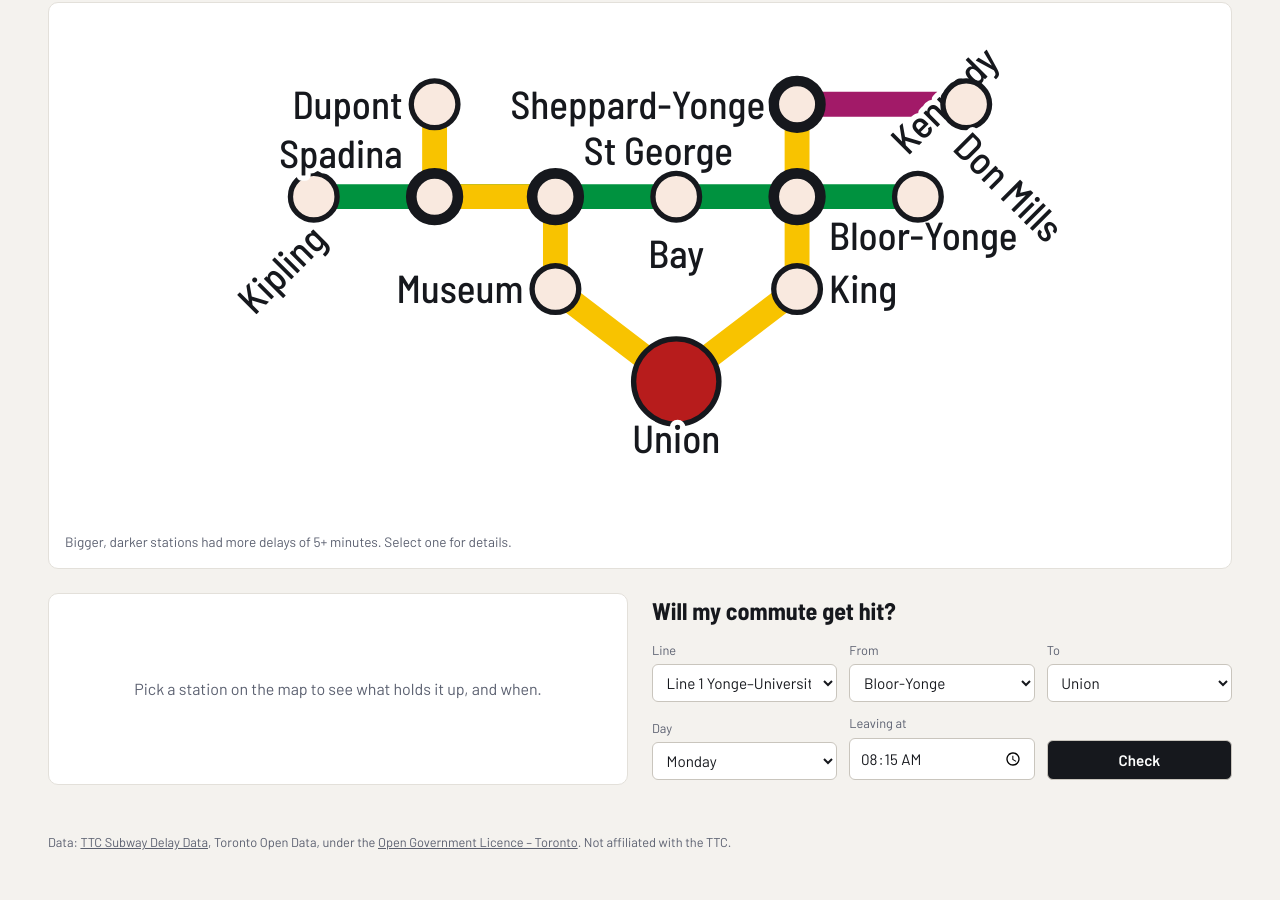
Test: App › shows the model's chance next to the frequency once a model is trained
(page scrolled)
Select "Friday" in the dropdown labelled "Day" at point(745, 762), box [652, 742, 837, 780]
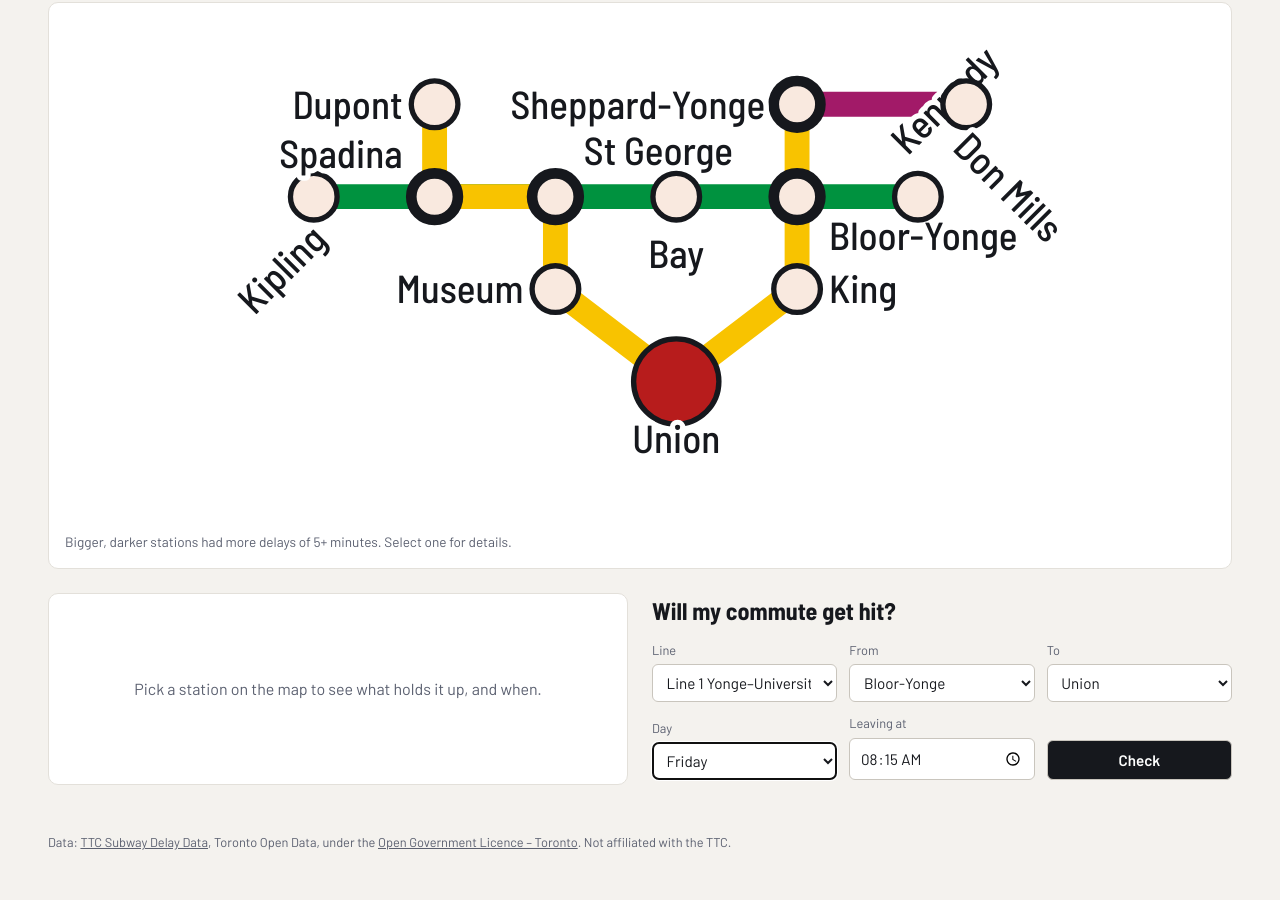
Click the button "Check" at point(1139, 760), box [1047, 740, 1232, 780]
(page scrolled)
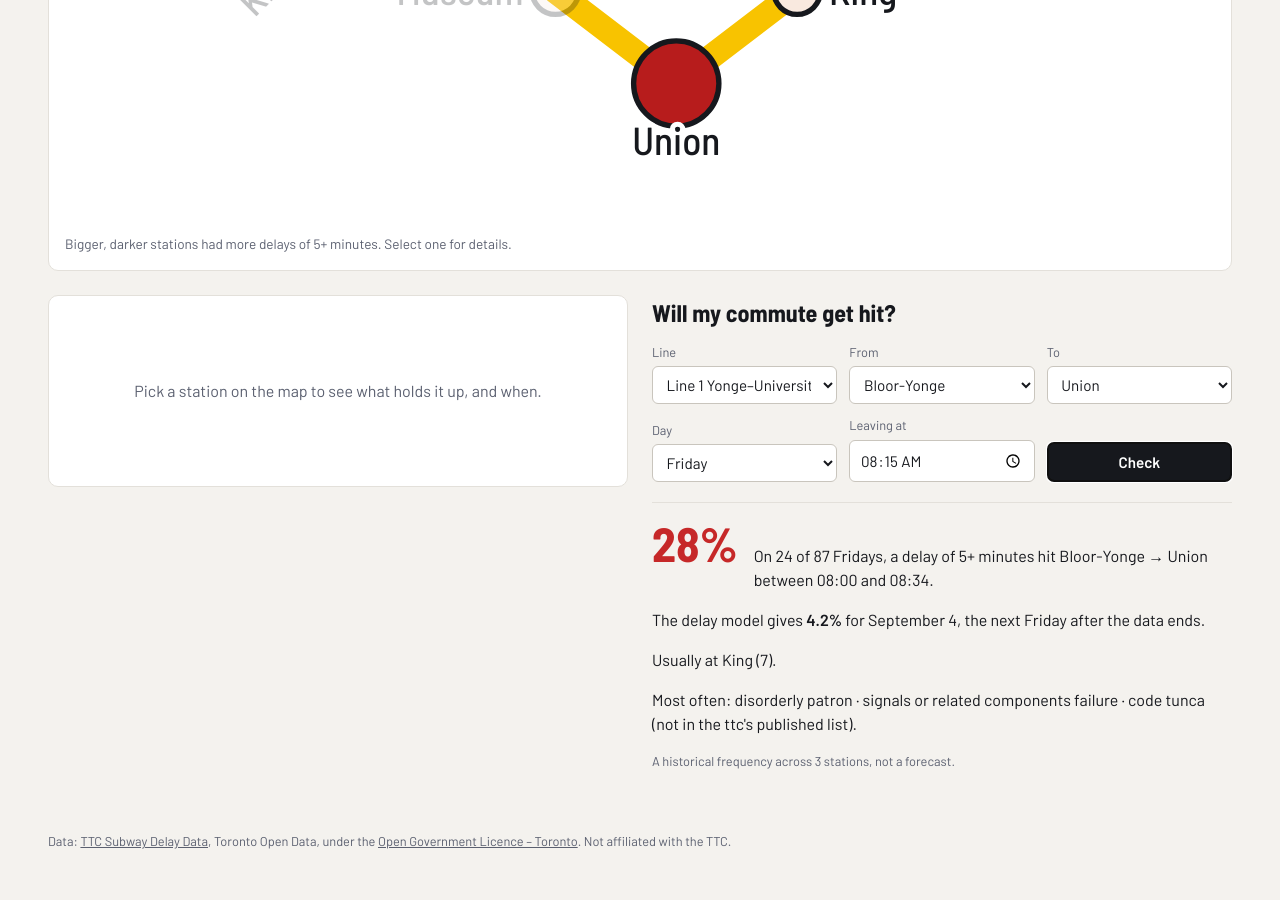
expect the text "28%" is shown: met, box [652, 520, 738, 568]
expect the text "4.2%" is shown: met, box [806, 610, 842, 630]
expect the text "for September 4, the next Friday after the data ends" is shown: met, box [652, 608, 1232, 632]
